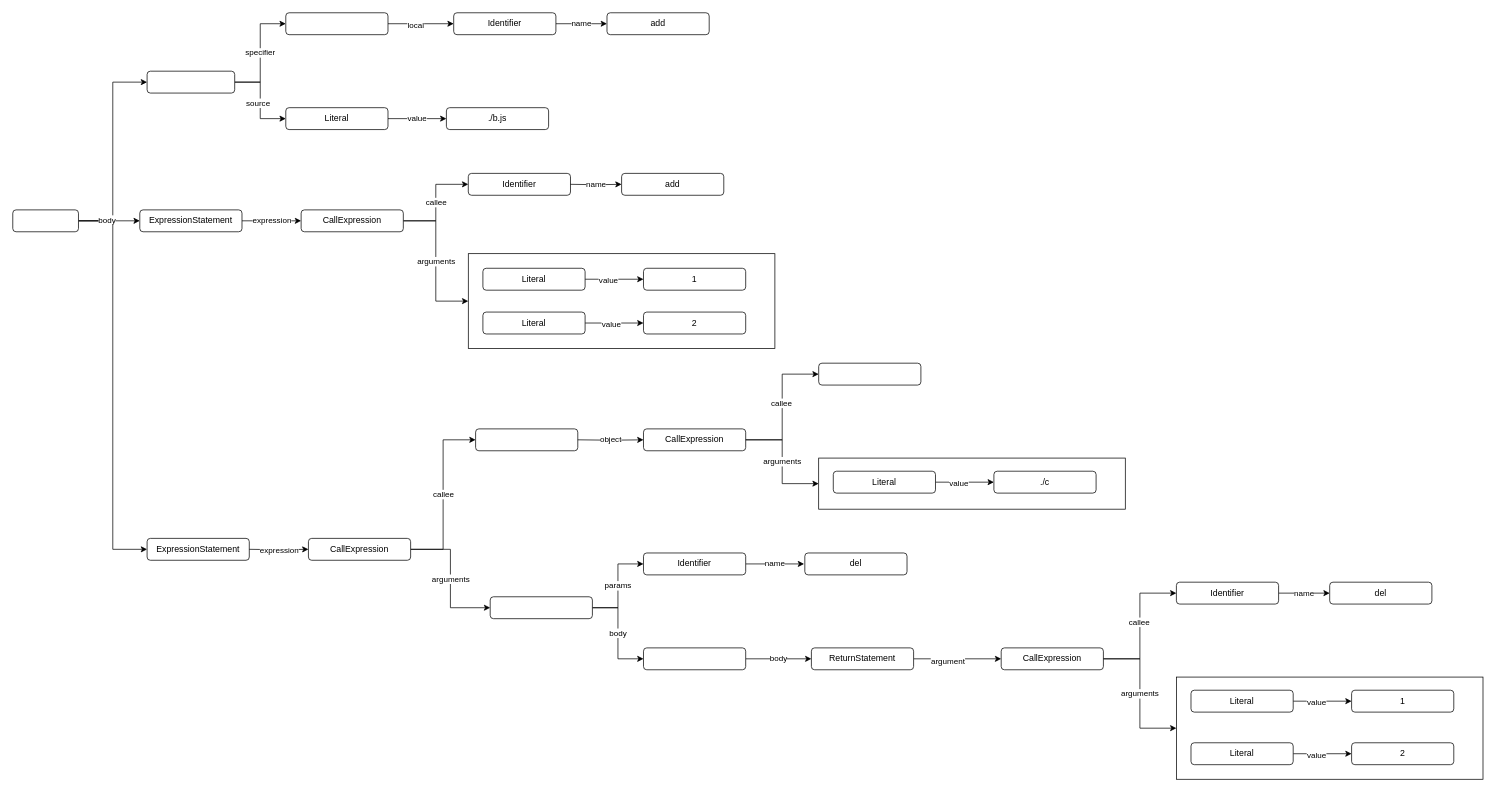
Some shapes in this 1496 by 792 pixel diagram are drawn without their labels. The centre of each missing label's shape, as x and y in pixels:
"BlockStatement" belongs at pixel 694 658.
"FucntionExpression" belongs at pixel 540 607.
"Import" belongs at pixel 869 373.
"ImportDeclaration" belongs at pixel 190 81.
"ImportDefaultSpecifier" belongs at pixel 336 23.
"MemberExpress" belongs at pixel 526 439.
"program" belongs at pixel 45 220.
